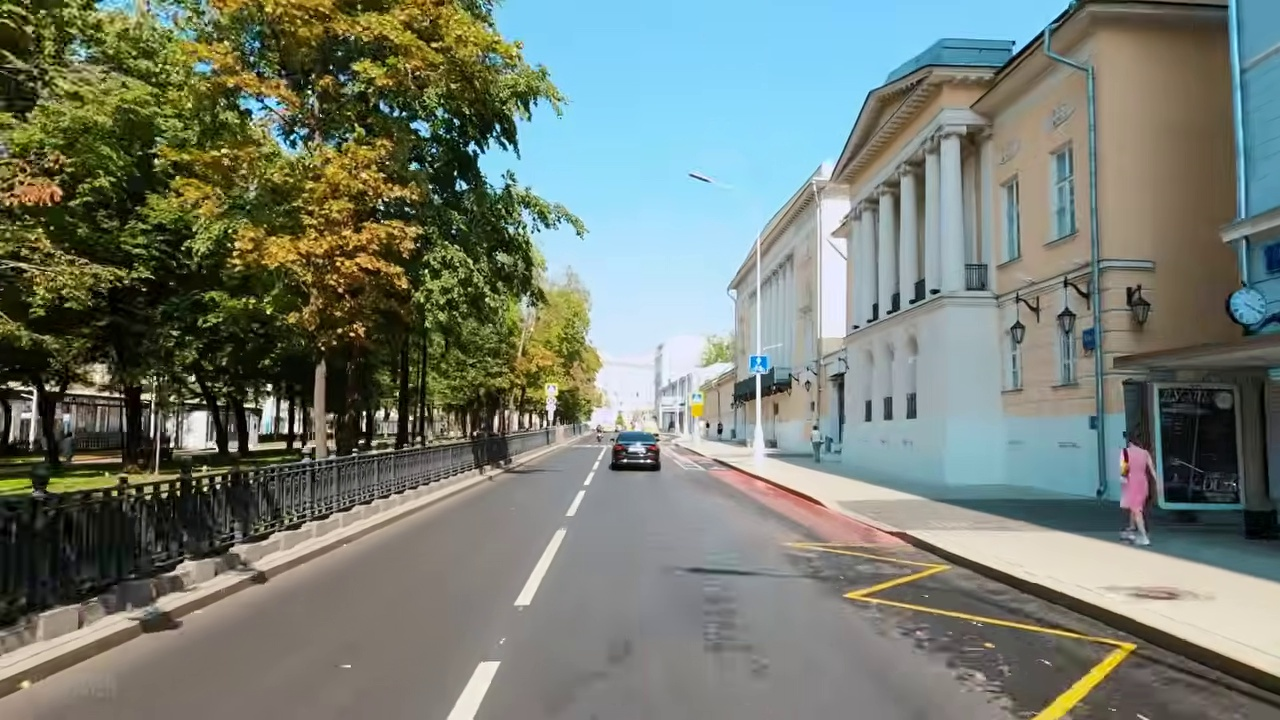apagada: (685, 168, 711, 189)
